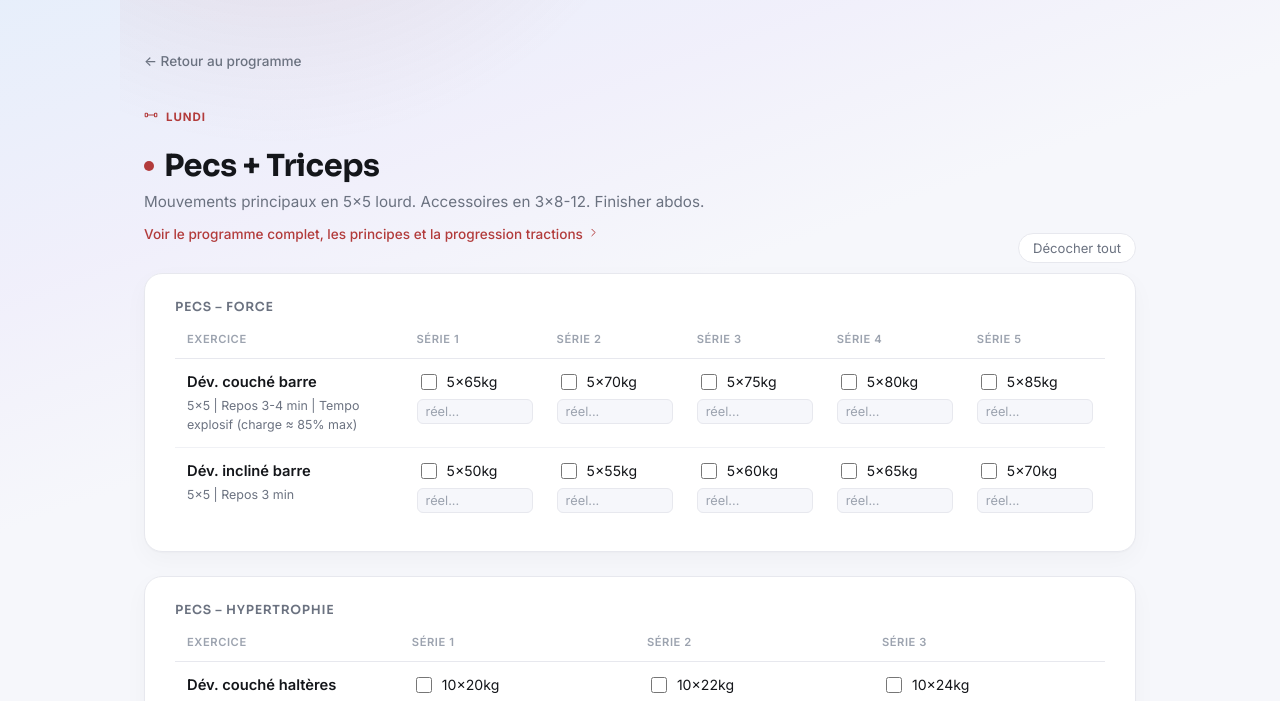
Test case: StrengthSessionDetailComponent › asks for confirmation before unticking, so one stray tap changes nothing
The image size is (1280, 701).
Click the checkbox labelled "5×65kg" next to "Dév. couché barre". click: (428, 382)
box: left=420, top=374, right=436, bottom=390
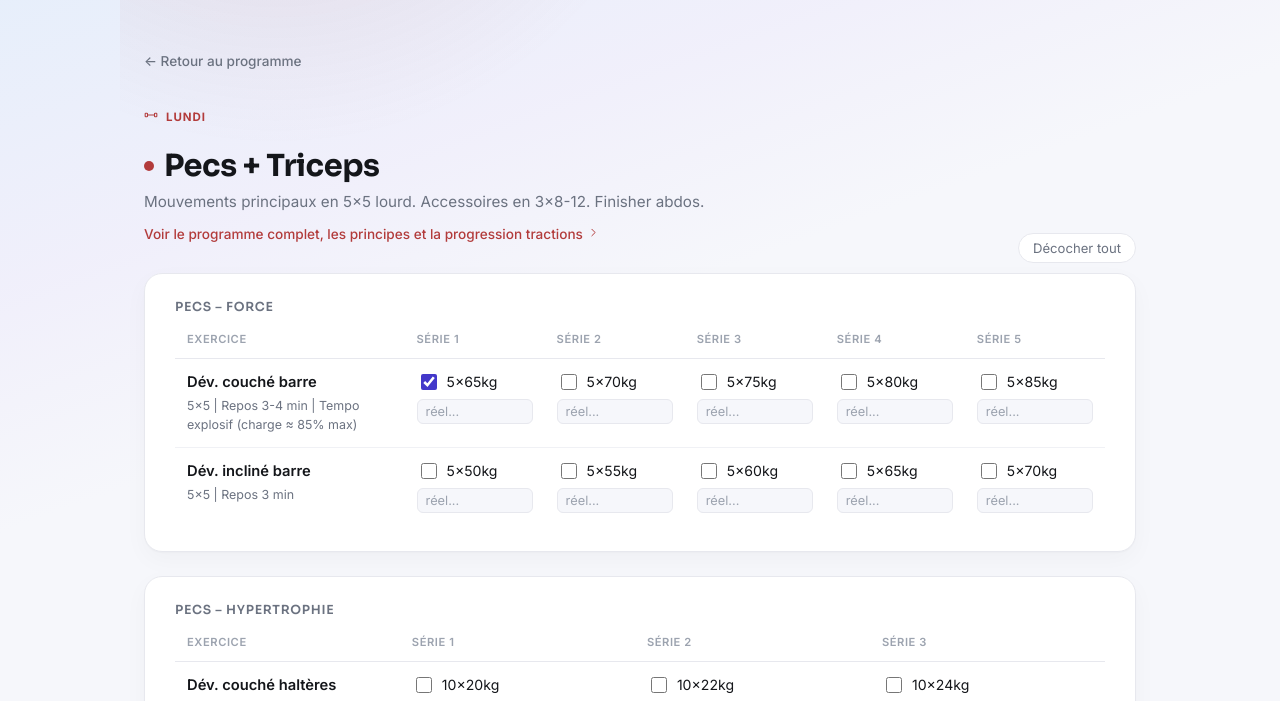
Result: the checkbox labelled "5×65kg" next to "Dév. couché barre" is checked at left=420, top=374, right=436, bottom=390
Click the button with class "reset-done". click: (1077, 248)
box: left=1018, top=233, right=1136, bottom=263
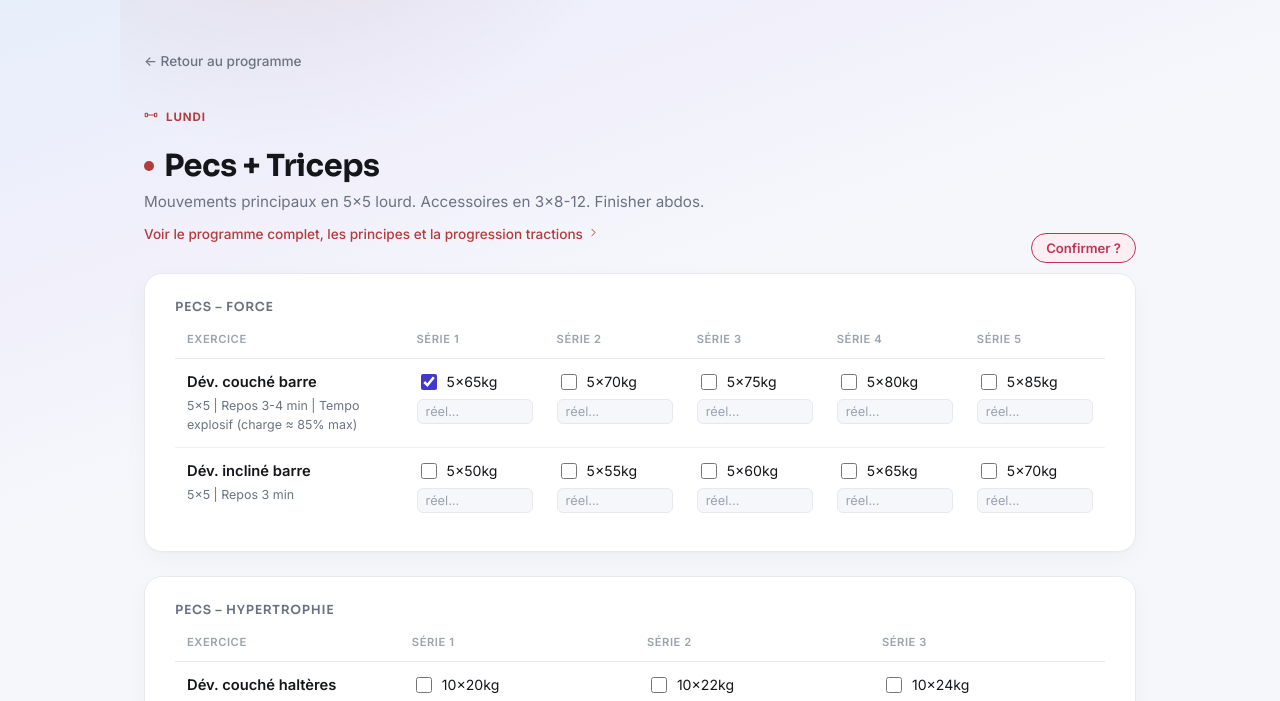
Result: the checkbox labelled "5×65kg" next to "Dév. couché barre" is checked at left=420, top=374, right=436, bottom=390
Result: the button with class "reset-done" shows "Confirmer" at left=1031, top=233, right=1136, bottom=263
